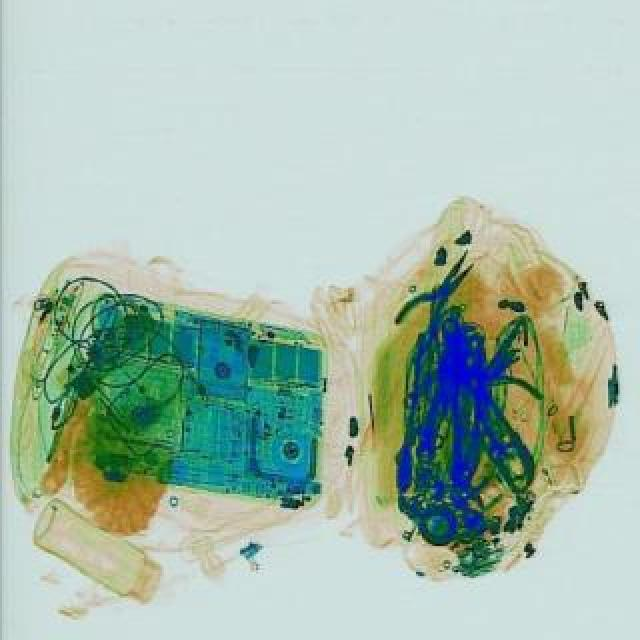wrench: (384, 240, 492, 356)
